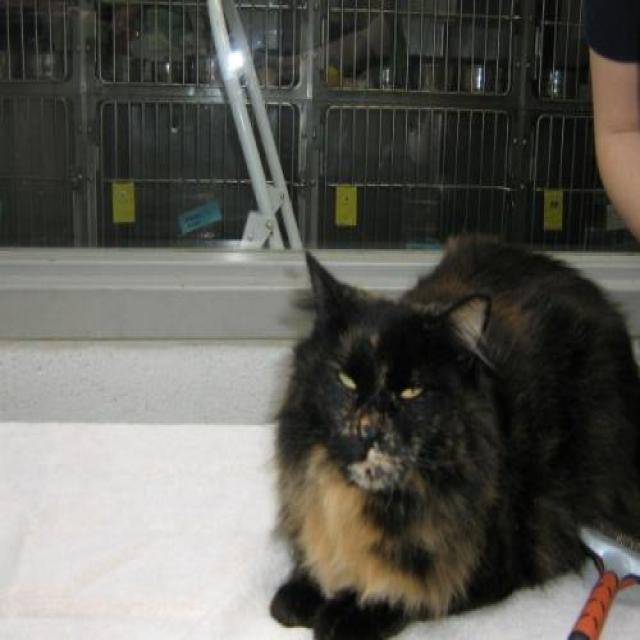Cats: (267, 231, 638, 638)
